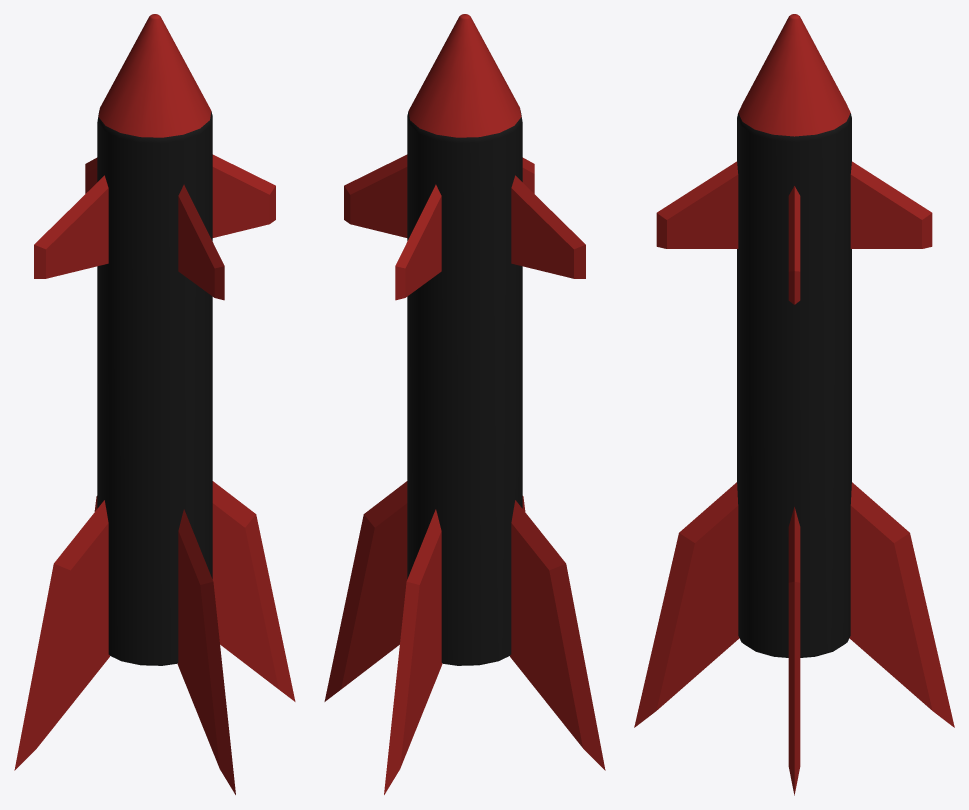
Rendered from rocket.fbx.
3 views of the same model, side by side, from view 1: azimuth 30°, elevation 25°; view 2: azimuth 150°, elevation 25°; view 3: azimuth 270°, elevation 25° (orthographic).
Parts seen in each view (by area): view 1: rocket; view 2: rocket; view 3: rocket.
Boxes of the visible parts, box(x1,y1,x2,y2) form: rocket: box(14, 14, 295, 794); rocket: box(324, 14, 605, 794); rocket: box(634, 14, 954, 795).
Size of the model in its own units: 0.5587 by 1.37 by 0.5587.
